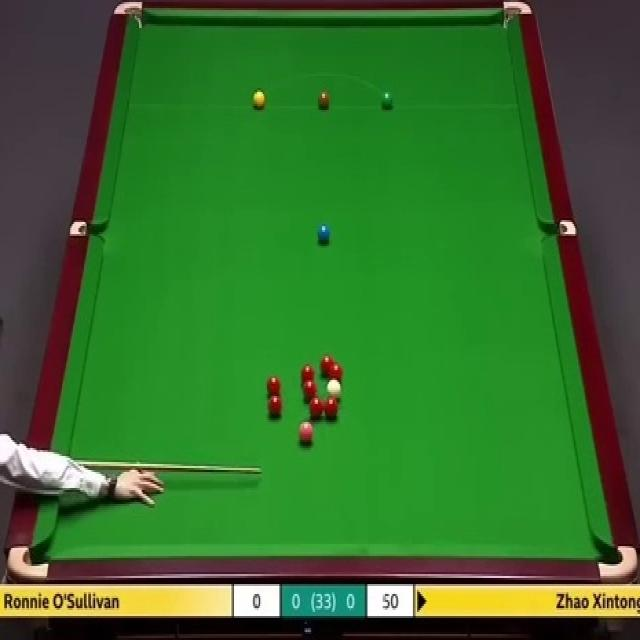blue-ball: (317, 223, 330, 243)
brown-ball: (316, 88, 331, 110)
green-ball: (380, 90, 395, 110)
pink-ball: (298, 420, 314, 444)
red-ball: (266, 375, 282, 397), (268, 396, 283, 419), (310, 397, 324, 419), (324, 397, 338, 419), (303, 381, 317, 401), (300, 364, 314, 384), (320, 356, 333, 374), (330, 362, 342, 380)
white-ball: (326, 377, 342, 402)
yellow-ball: (252, 88, 265, 109)
